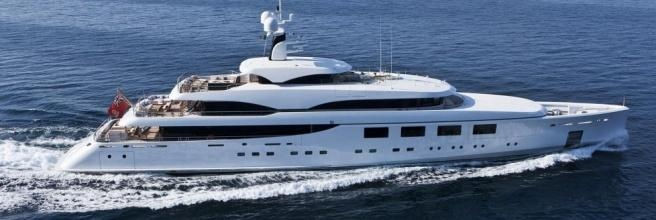yacht: (49, 15, 633, 177)
